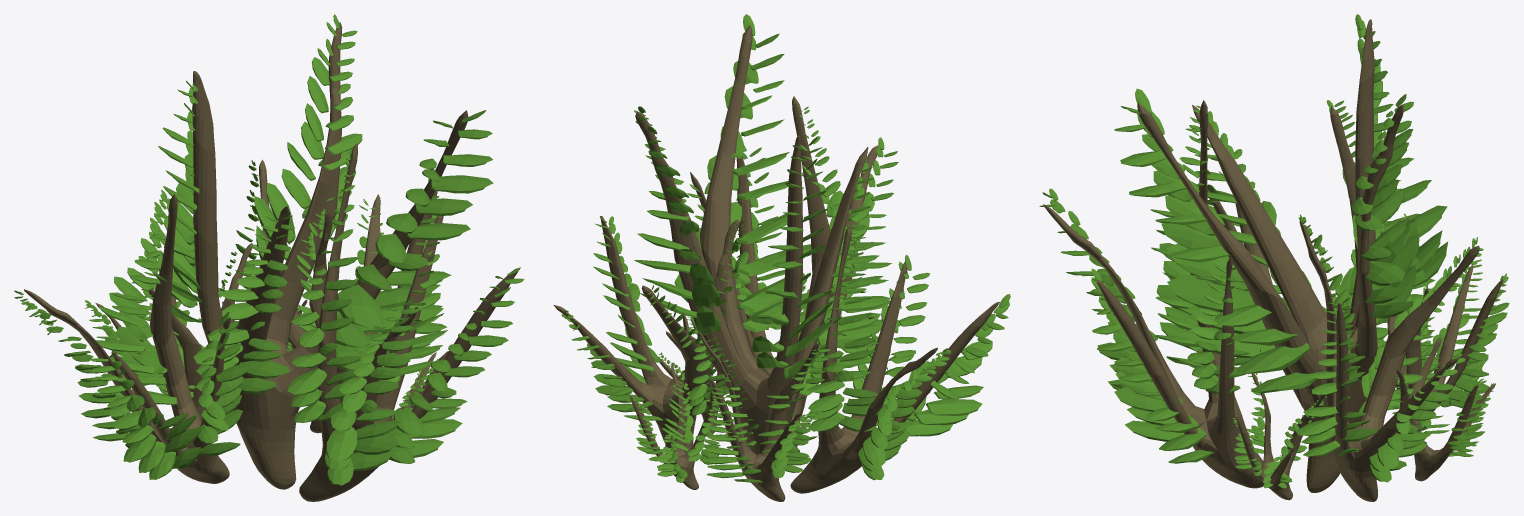
Rendered from BushwithLeaf.fbx.
3 views of the same model, side by side, from view 1: azimuth 30°, elevation 25°; view 2: azimuth 150°, elevation 25°; view 3: azimuth 270°, elevation 25° (orthographic). The views are drawn at different scales.
Visible parts, largest first — view 1: BushwithLeaf; view 2: BushwithLeaf; view 3: BushwithLeaf.
Boxes of the visible parts, x1,y1,x2,y2 form: BushwithLeaf: (14, 14, 524, 501); BushwithLeaf: (553, 14, 1010, 501); BushwithLeaf: (1039, 14, 1509, 501).
Bounding box in the file's own units: 125 × 124 × 118.
